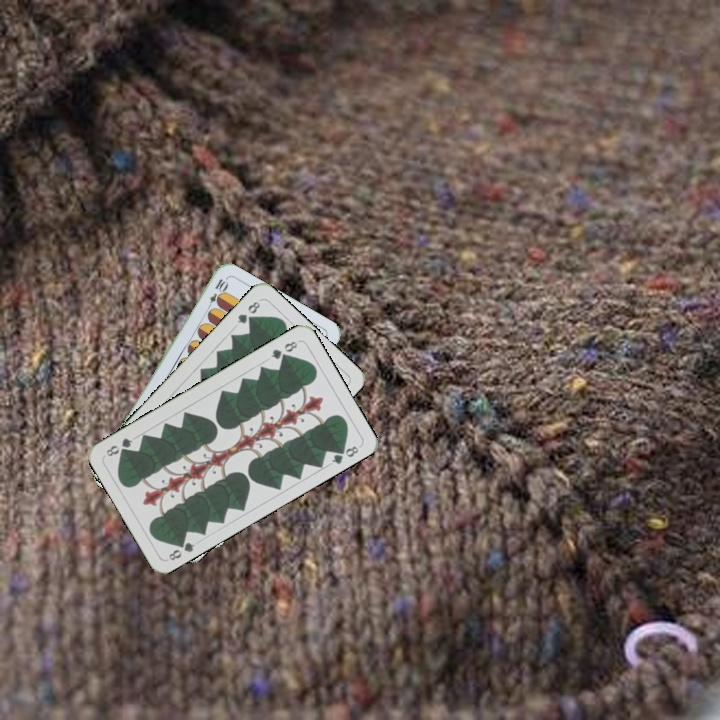E10: (203, 275, 229, 313)
G8: (164, 535, 198, 563), (233, 297, 263, 326), (267, 337, 300, 362)
